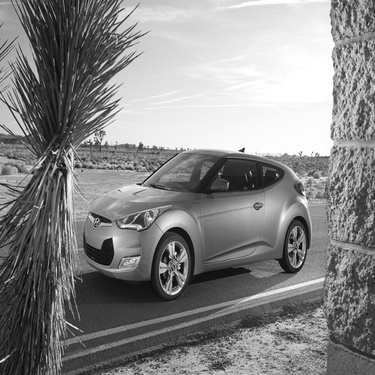car: (75, 138, 318, 303)
